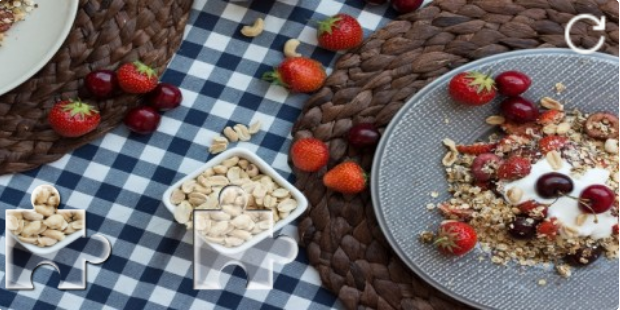target: (193, 185, 298, 291)
